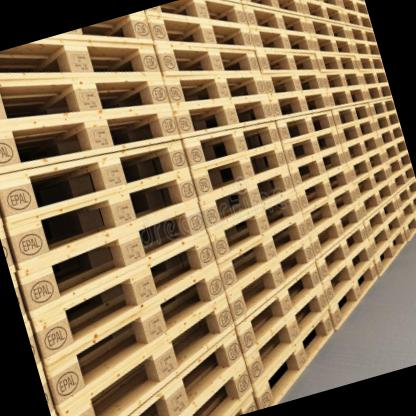BoxFace: (48, 266, 226, 411), (17, 201, 208, 321), (0, 142, 190, 226), (0, 111, 181, 175), (0, 73, 170, 125), (237, 264, 324, 359), (218, 213, 308, 292), (192, 141, 288, 199), (148, 15, 257, 47), (279, 111, 335, 144), (360, 181, 395, 222), (313, 34, 355, 54)
